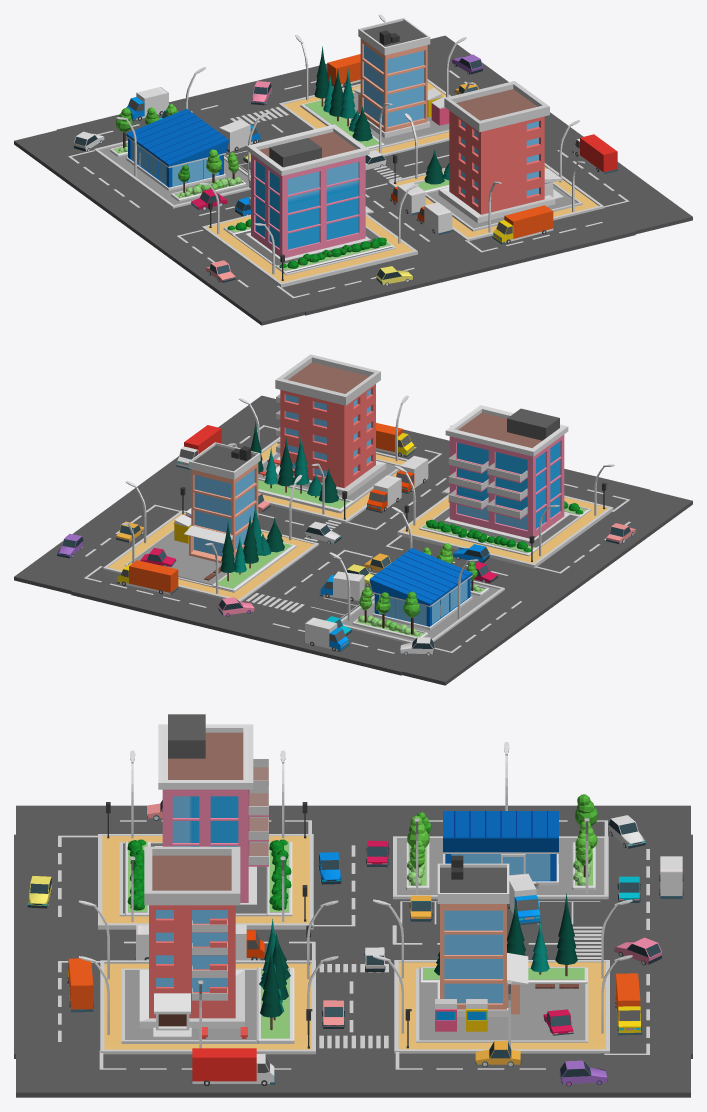
Rendered from city.fbx.
3 renders of one model, top to bottom at view 1: azimuth 30°, elevation 25°; view 2: azimuth 150°, elevation 25°; view 3: azimuth 270°, elevation 25°, orthographic. The views are drawn at different scales.
Parts seen in each view (by area): view 1: City; view 2: City; view 3: City.
Boxes of the visible parts, left/top/right/bottom form: City: left=14, top=14, right=692, bottom=325; City: left=14, top=354, right=692, bottom=685; City: left=14, top=714, right=692, bottom=1097.
Bounding box in the file's own units: 2192 × 530 × 2192.
1 material, 1 textured.
